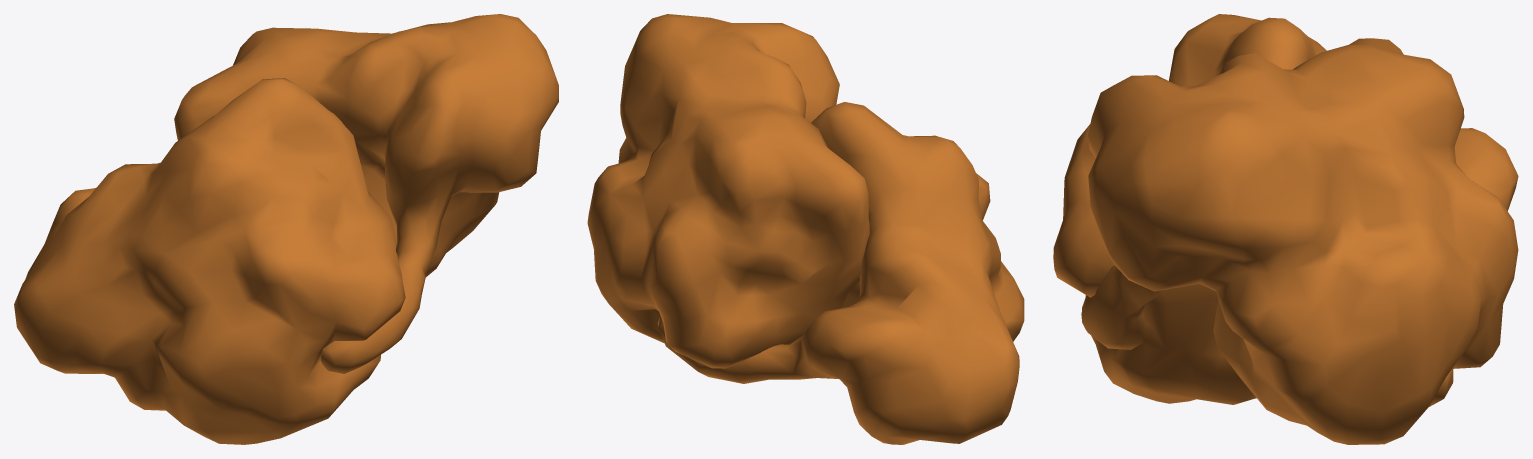
File: i7aat_91kD.fbx
3 views of the same model, side by side, from view 1: azimuth 30°, elevation 25°; view 2: azimuth 150°, elevation 25°; view 3: azimuth 270°, elevation 25° (orthographic). The views are drawn at different scales.
Visible parts, largest first — view 1: CoarseMS_7aat_Selection0.2, CoarseMS_7aat_Selection1.2; view 2: CoarseMS_7aat_Selection1.2, CoarseMS_7aat_Selection0.2; view 3: CoarseMS_7aat_Selection1.2, CoarseMS_7aat_Selection0.2.
Boxes of the visible parts, bbox=[...] form: CoarseMS_7aat_Selection0.2: bbox=[14, 78, 405, 444]; CoarseMS_7aat_Selection1.2: bbox=[174, 14, 558, 373]; CoarseMS_7aat_Selection1.2: bbox=[587, 14, 869, 368]; CoarseMS_7aat_Selection0.2: bbox=[657, 102, 1024, 444]; CoarseMS_7aat_Selection1.2: bbox=[1081, 38, 1518, 444]; CoarseMS_7aat_Selection0.2: bbox=[1053, 14, 1518, 406].
Size of the model in its own units: 93.1 by 67.4 by 63.49.
